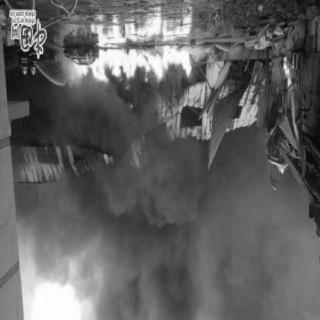Fire: (53, 47, 193, 89), (280, 55, 298, 119)
